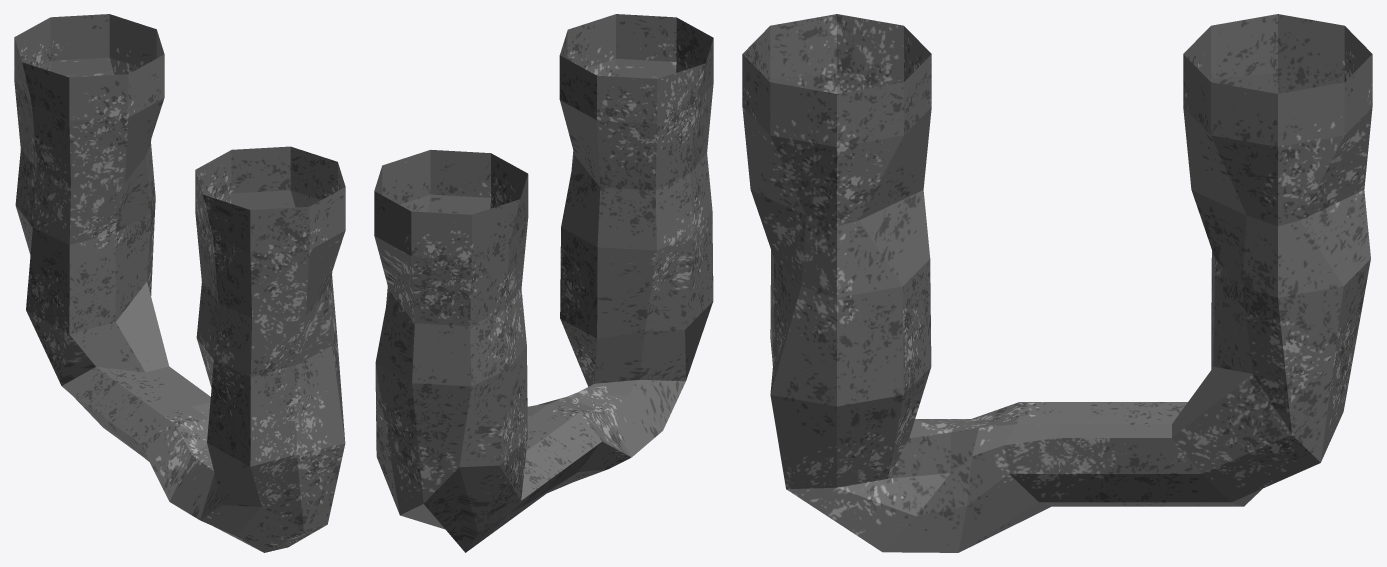
Rendered from ArchFBX.fbx.
3 views of the same model, side by side, from view 1: azimuth 30°, elevation 25°; view 2: azimuth 150°, elevation 25°; view 3: azimuth 270°, elevation 25° (orthographic). The views are drawn at different scales.
Parts seen in each view (by area): view 1: Arch; view 2: Arch; view 3: Arch.
Part boxes in pixels (bbox=[...]): Arch: bbox=[14, 14, 345, 552]; Arch: bbox=[374, 14, 713, 552]; Arch: bbox=[742, 14, 1372, 552].
Size of the model in its own units: 0.866 by 2.41 by 2.88.
